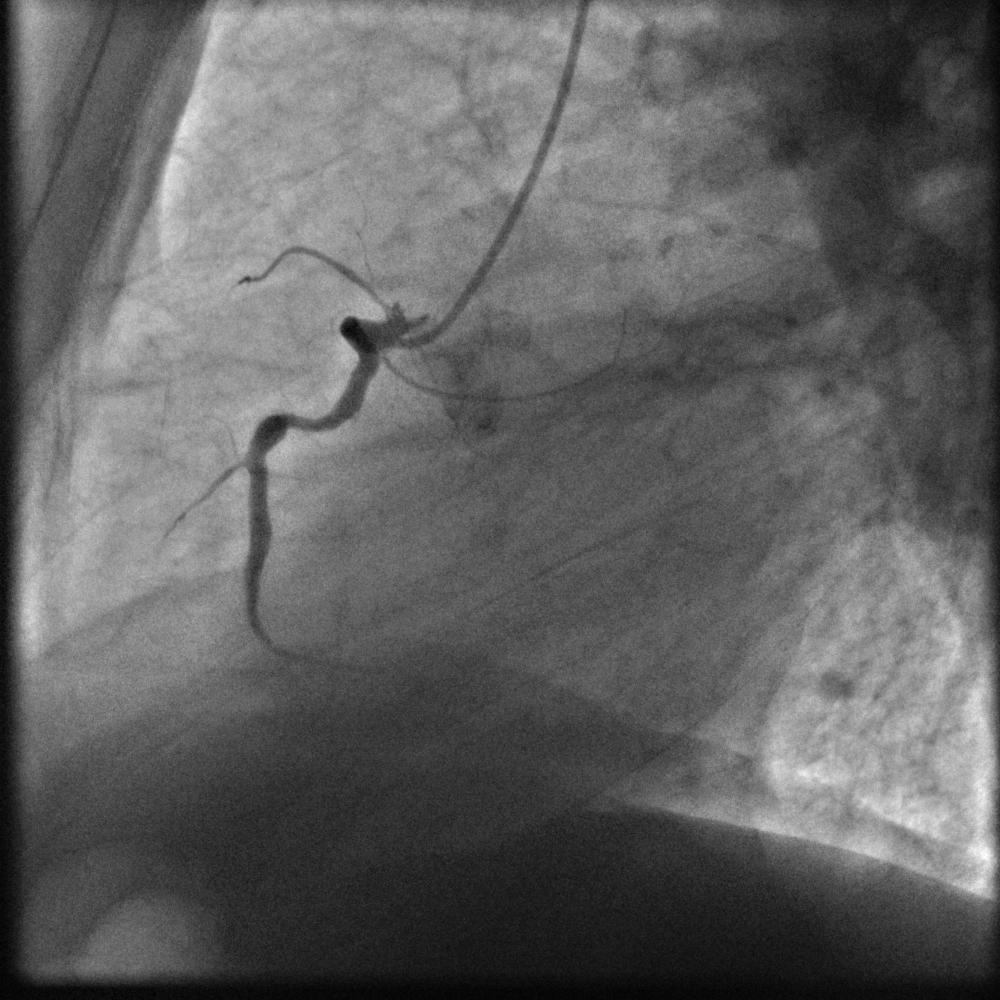Stenosis: (280, 410, 319, 432)
